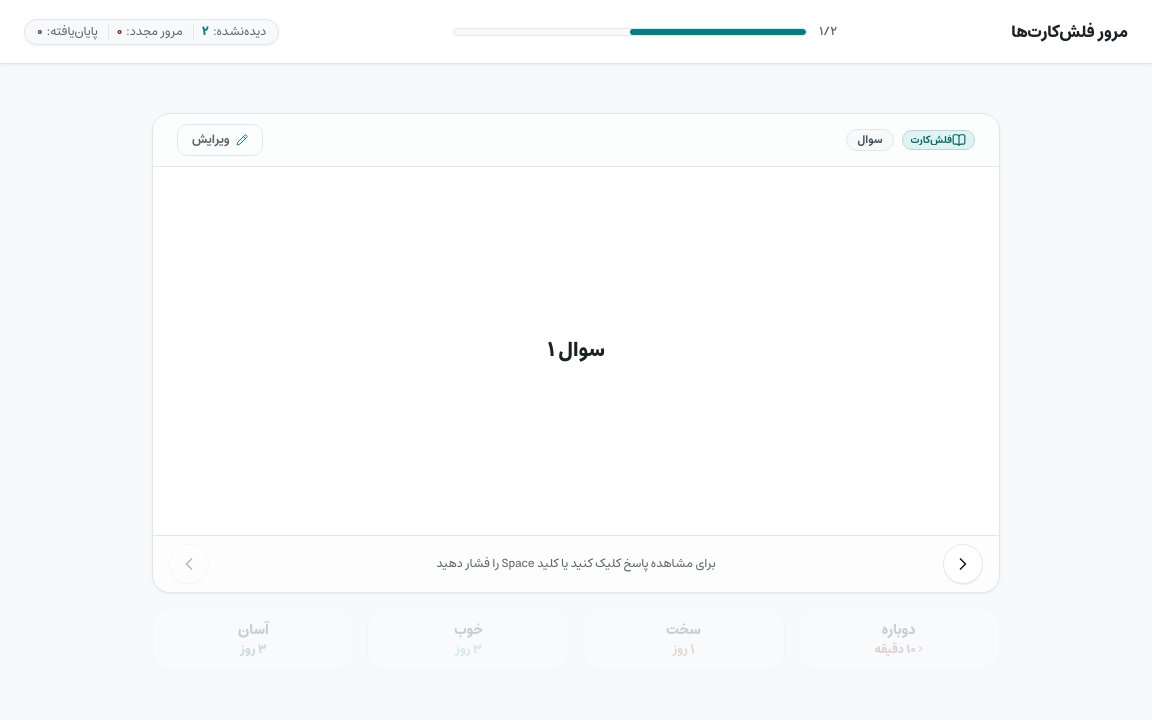
it: Flashcard Mobile UI & Desktop Preservation › renders mobile navigation buttons inside the flashcard with proper positioning and desktop buttons preserved
This screenshot has width=1152, height=720.
Expected: the text "سوال ۱" is shown, x1=547 y1=333 x2=605 y2=368
Expected: the number of buttons named "کارت قبلی" is 1, x1=169 y1=544 x2=209 y2=584
Next button click when unflipped flips card
Click the button named "کارت بعدی" at (963, 564), box x1=943 y1=544 x2=983 y2=584
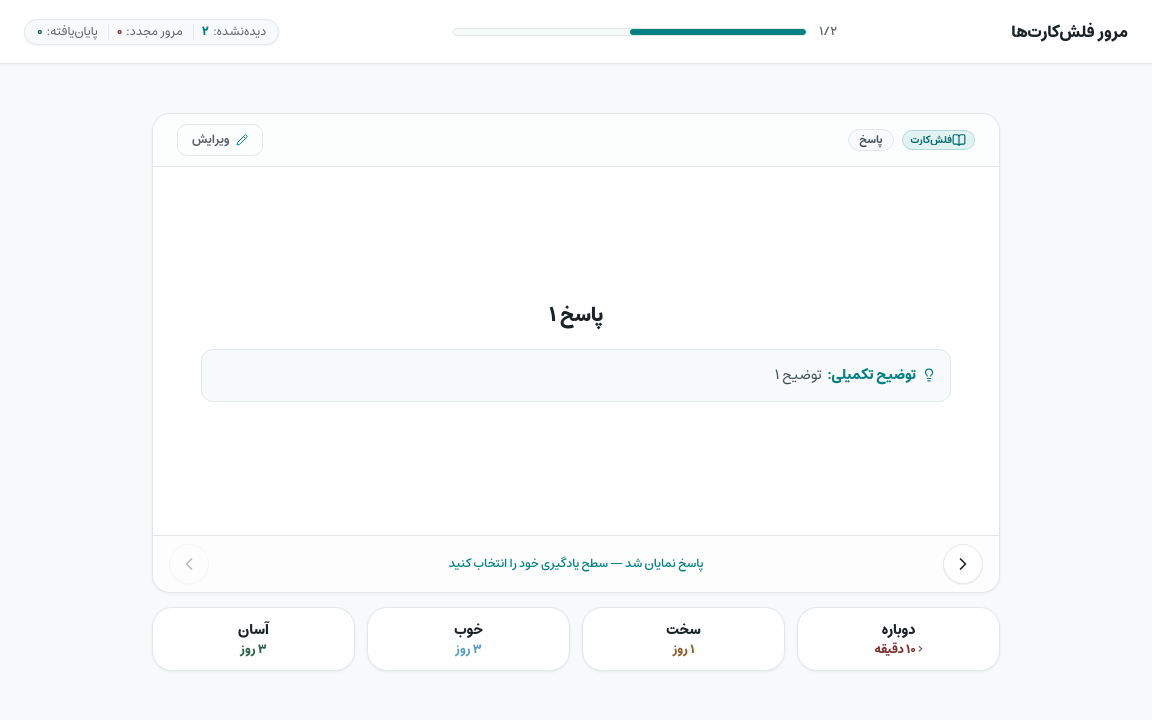
Expected: the text "پاسخ ۱" is shown, x1=549 y1=298 x2=603 y2=333
Mobile next button click when flipped advances to card 2
Click the button named "کارت بعدی" at (963, 564), box x1=943 y1=544 x2=983 y2=584
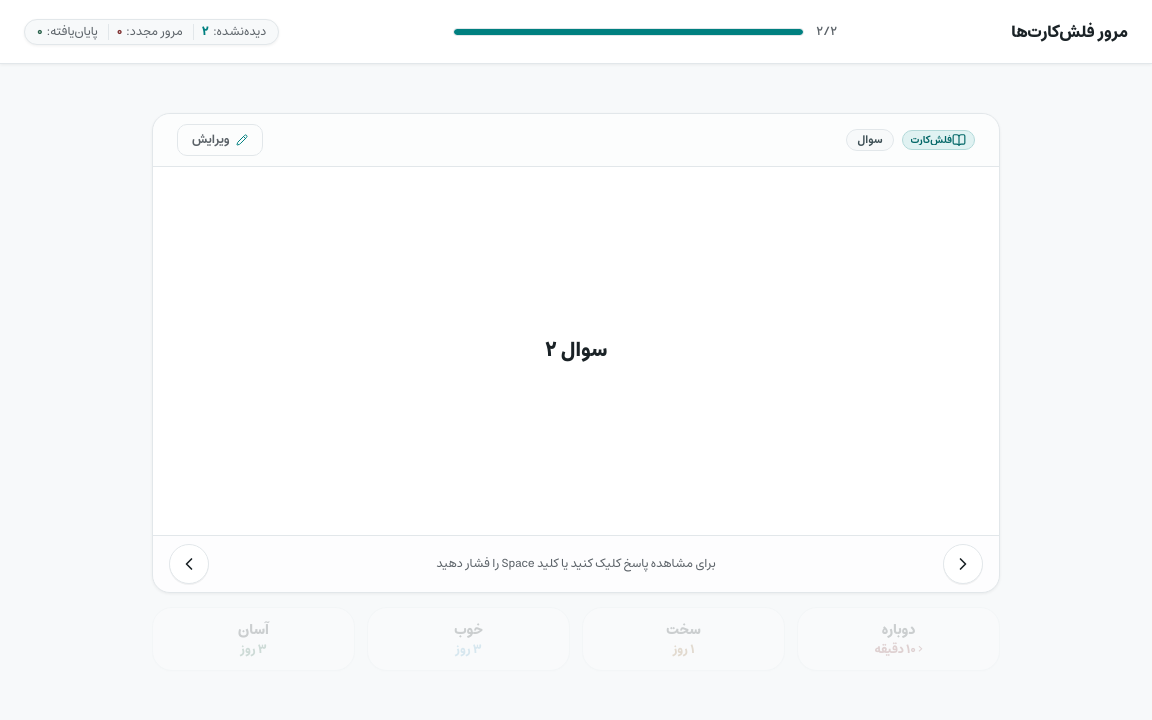
Expected: the text "سوال ۲" is shown, x1=545 y1=333 x2=607 y2=368
Test mobile previous button click navigates back to card 1
Click the button named "کارت قبلی" at (189, 564), box x1=169 y1=544 x2=209 y2=584
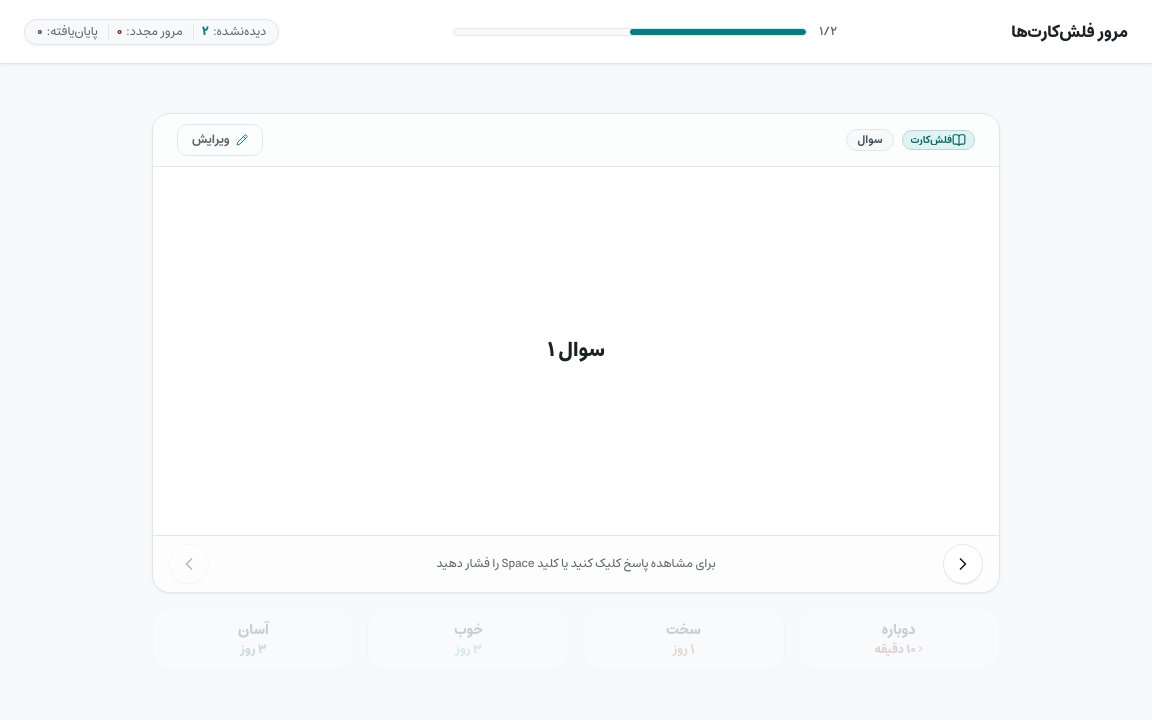
Expected: the text "سوال ۱" is shown, x1=547 y1=333 x2=605 y2=368
